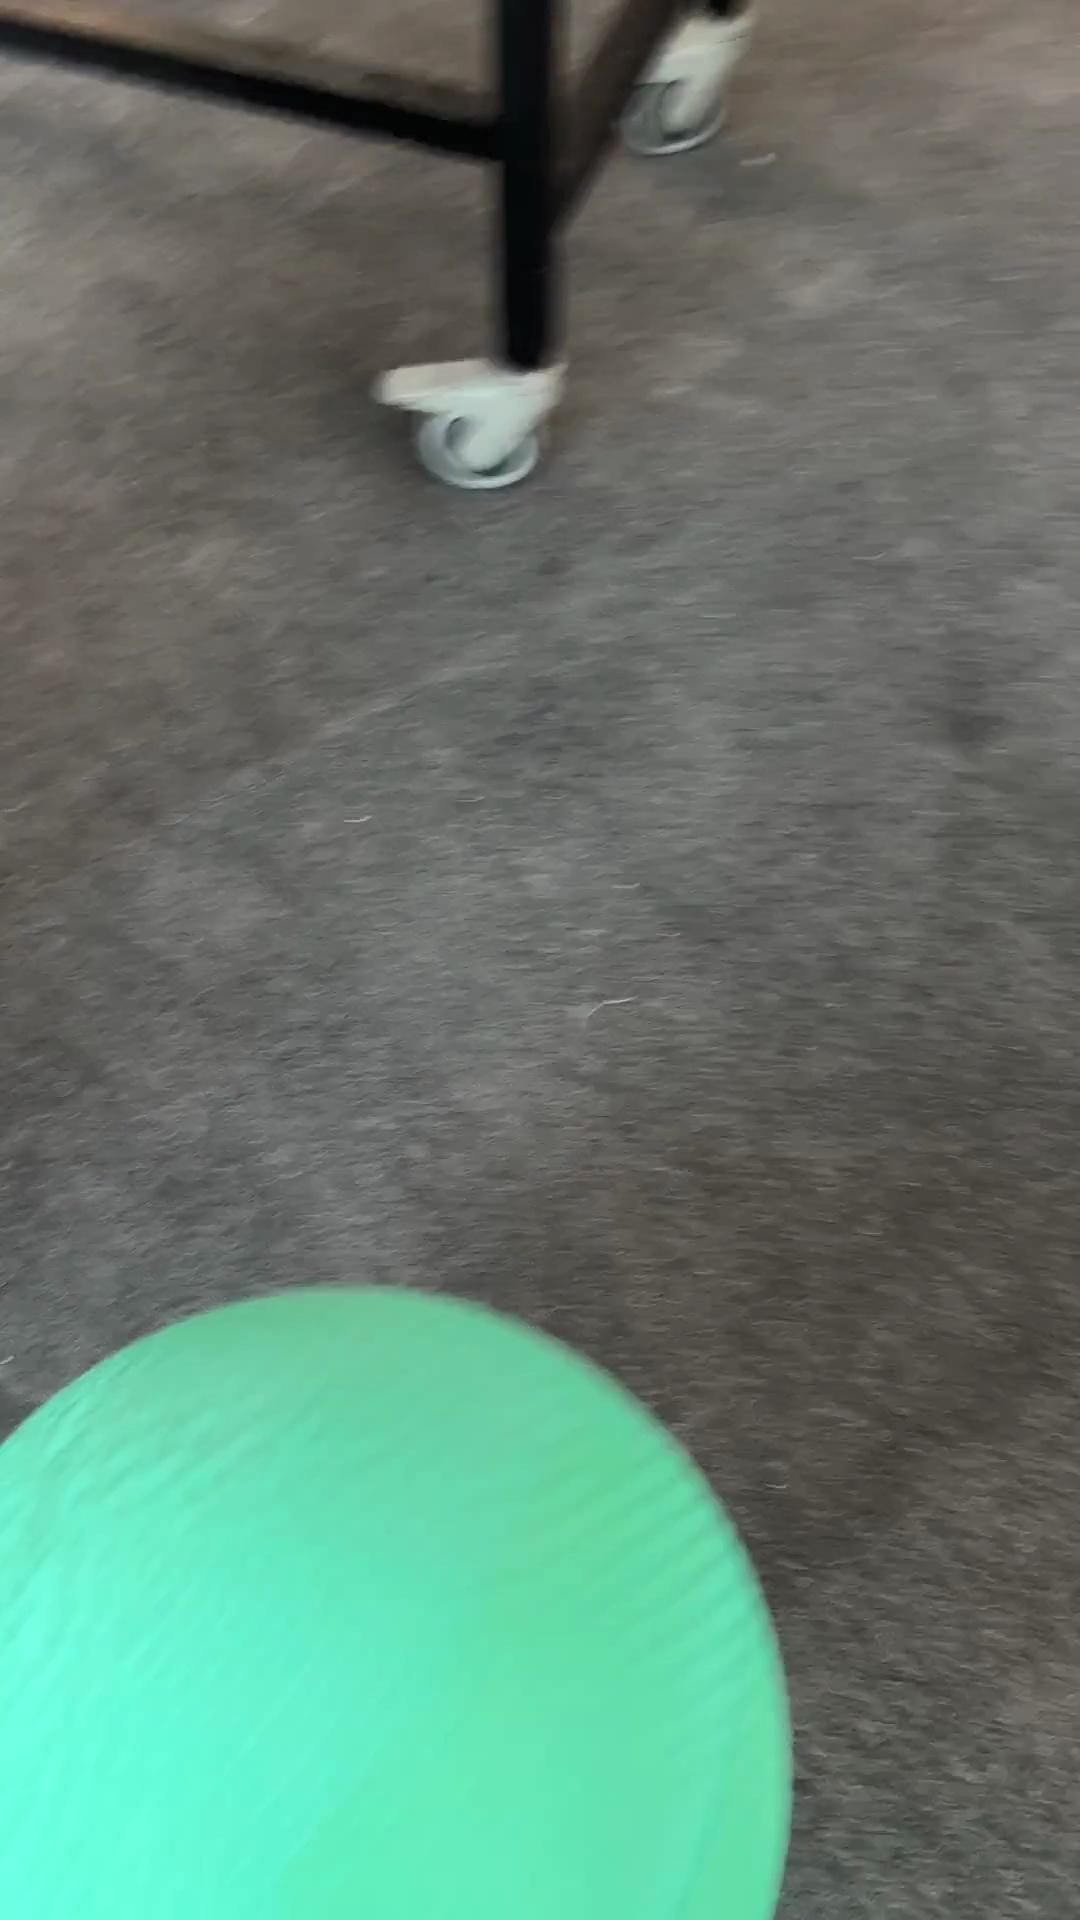ALGAE: (1, 1278, 795, 1916)
